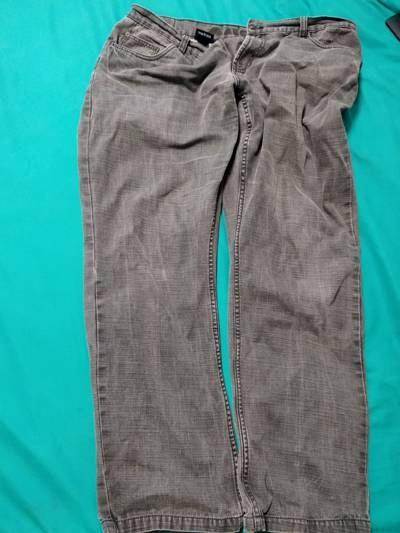Pants: (65, 11, 388, 529)
